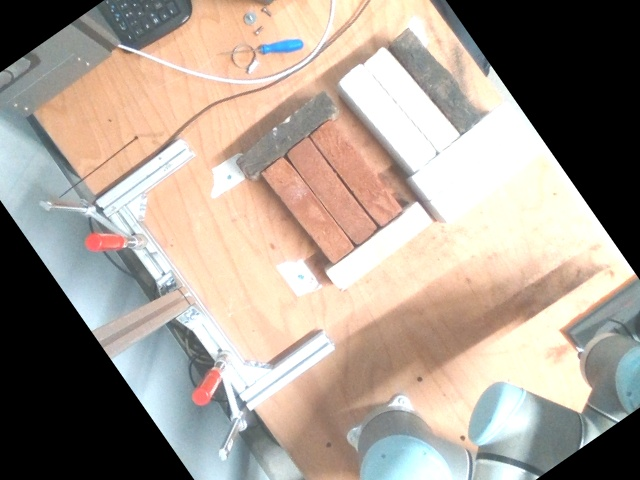brick-side: (340, 62, 437, 170), (432, 126, 541, 221), (413, 103, 521, 198), (365, 45, 459, 151), (388, 28, 481, 131), (287, 139, 377, 242), (264, 157, 353, 259), (311, 121, 400, 223), (236, 90, 336, 176), (329, 203, 430, 287)
